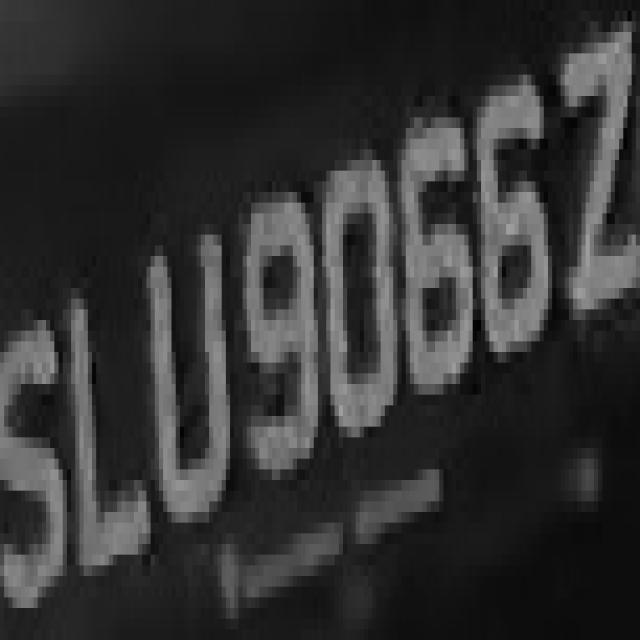0: (310, 128, 398, 480)
6: (460, 64, 548, 405), (389, 96, 473, 437)
9: (238, 181, 326, 512)
L: (59, 245, 154, 608)
S: (8, 278, 63, 630)
U: (134, 203, 238, 544)
Z: (556, 0, 639, 341)
